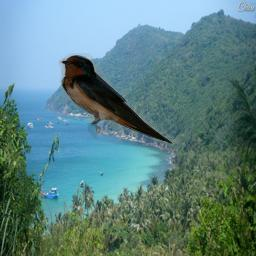Swallow: (58, 53, 175, 146)
